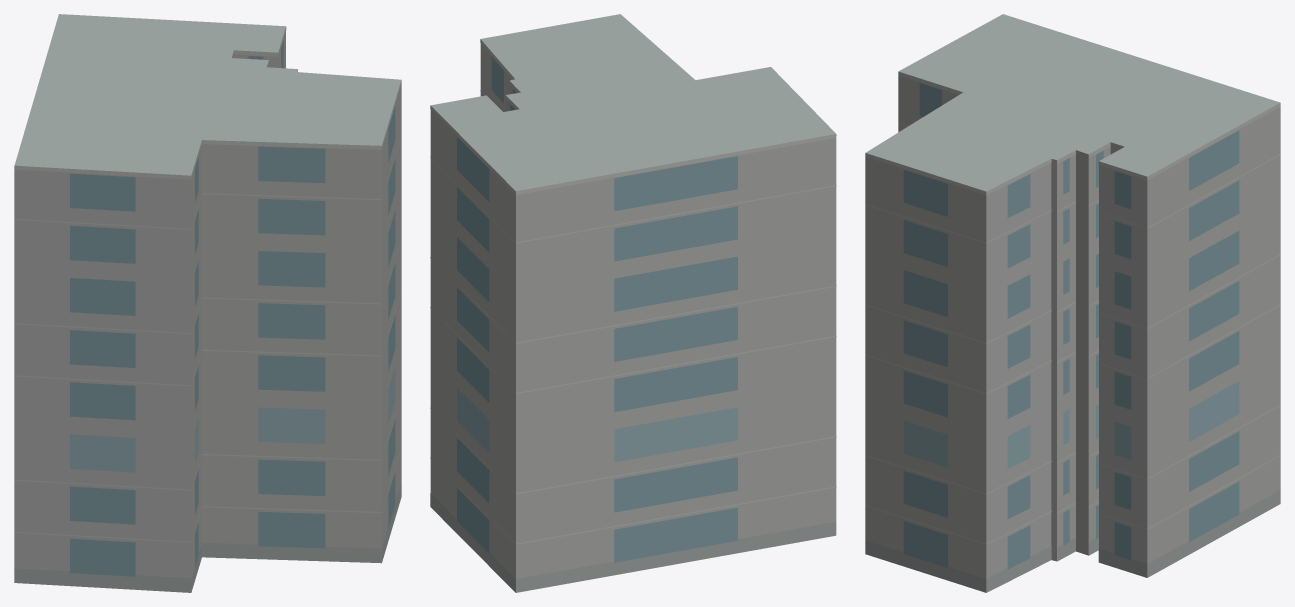
File: survey-upis-32641707.glb
3 views of the same model, side by side, from view 1: azimuth 30°, elevation 25°; view 2: azimuth 150°, elevation 25°; view 3: azimuth 270°, elevation 25° (orthographic). The views are drawn at different scales.
Parts seen in each view (by area): view 1: survey-upis-32641707.tmp; view 2: survey-upis-32641707.tmp; view 3: survey-upis-32641707.tmp.
Part boxes in pixels (x1,y1,x2,y2): survey-upis-32641707.tmp: [14, 14, 401, 592]; survey-upis-32641707.tmp: [430, 14, 836, 592]; survey-upis-32641707.tmp: [865, 14, 1280, 592].
Size of the model in its own units: 23.75 by 25 by 23.46.
